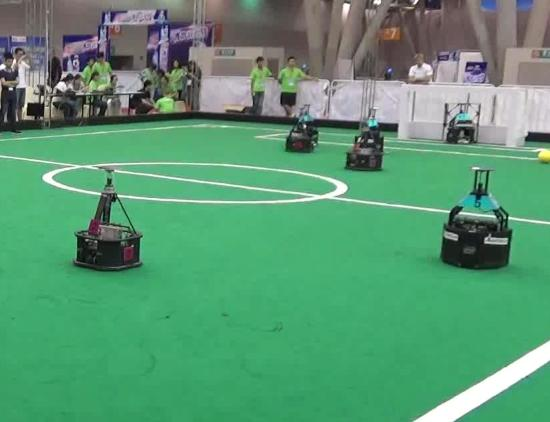robot: (71, 160, 147, 271), (440, 160, 512, 271)
